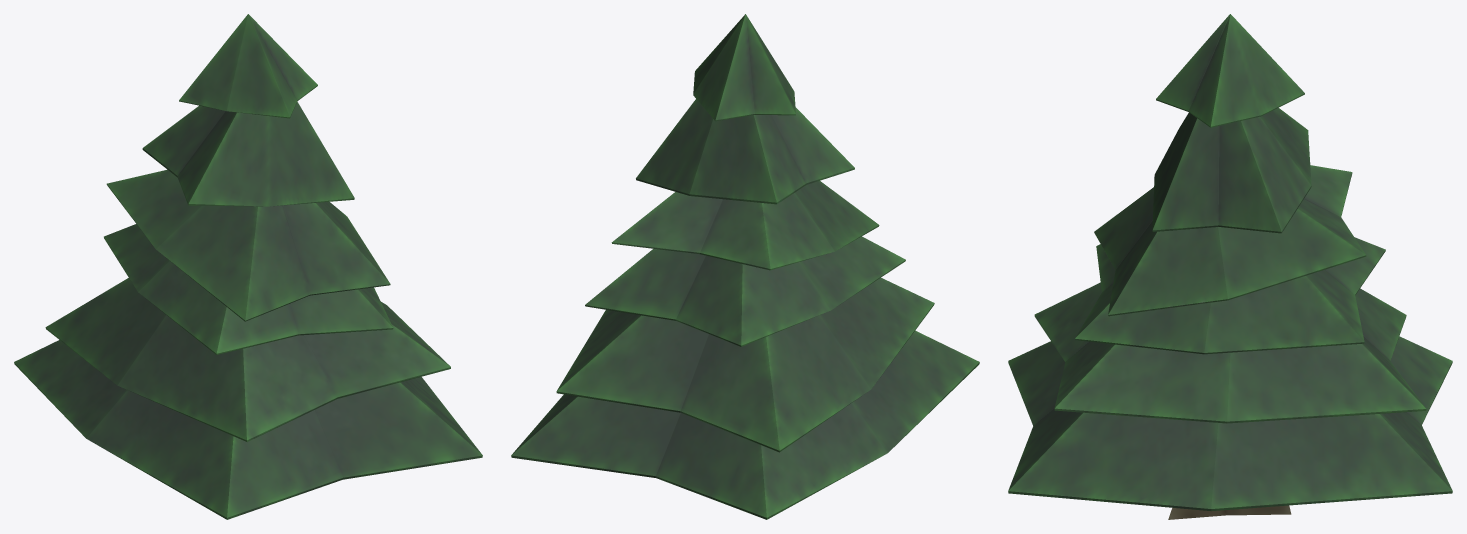
The model's file is GJ_Decor_Exterior_Tree_04.fbx.
The picture shows the model from 3 angles, left to right: view 1: azimuth 30°, elevation 25°; view 2: azimuth 150°, elevation 25°; view 3: azimuth 270°, elevation 25°; orthographic projection. The views are drawn at different scales.
Visible parts, largest first — view 1: GJ_Decor_Exterior_Tree_04; view 2: GJ_Decor_Exterior_Tree_04; view 3: GJ_Decor_Exterior_Tree_04.
Boxes of the visible parts, x1=… form: GJ_Decor_Exterior_Tree_04: x1=14, y1=14, x2=482, y2=519; GJ_Decor_Exterior_Tree_04: x1=511, y1=14, x2=979, y2=519; GJ_Decor_Exterior_Tree_04: x1=1008, y1=14, x2=1452, y2=519.
Size of the model in its own units: 8.87 by 12.27 by 10.38.
Materials: 1 (1 with a texture image).
